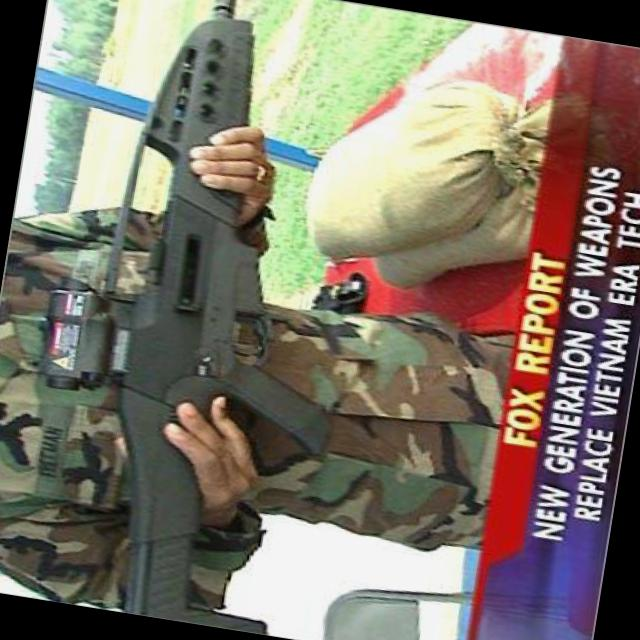long weapon: (58, 0, 376, 637)
